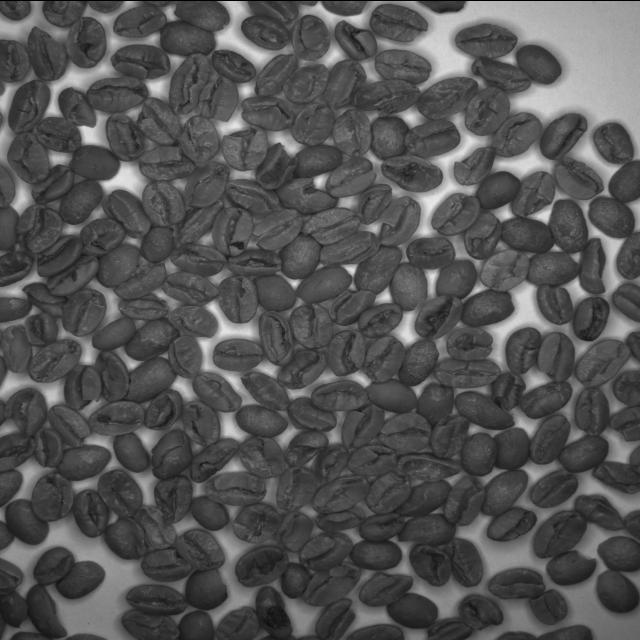bad: (530, 506, 588, 559), (574, 337, 633, 387), (416, 76, 481, 120), (349, 76, 422, 115), (24, 338, 84, 383), (302, 562, 362, 606), (451, 390, 517, 430), (463, 84, 512, 136), (232, 544, 292, 586), (308, 472, 371, 512), (85, 74, 151, 112), (380, 154, 446, 192), (317, 228, 381, 267), (412, 292, 464, 340), (441, 534, 487, 588), (252, 584, 296, 640), (551, 155, 607, 199), (370, 1, 430, 42), (102, 188, 151, 238), (491, 110, 542, 158), (432, 354, 504, 388), (5, 130, 51, 183), (109, 42, 173, 80), (454, 20, 518, 58), (468, 54, 532, 92), (23, 583, 68, 637), (301, 206, 363, 245), (16, 203, 64, 253), (220, 124, 270, 172), (402, 117, 462, 157), (538, 111, 588, 159), (148, 428, 194, 480), (478, 247, 530, 293), (60, 284, 105, 337), (27, 24, 69, 80), (42, 253, 98, 295), (462, 208, 507, 260), (174, 528, 227, 572), (7, 78, 50, 132), (254, 308, 294, 366), (298, 531, 356, 571), (177, 197, 225, 245), (101, 514, 149, 562), (139, 177, 186, 226), (101, 110, 147, 160), (255, 140, 301, 190), (96, 466, 142, 516), (378, 195, 424, 245), (432, 190, 482, 236), (324, 154, 376, 198), (339, 403, 387, 450), (395, 448, 461, 482), (204, 471, 268, 506), (352, 571, 414, 607), (237, 436, 290, 478), (535, 329, 577, 382), (483, 566, 548, 600), (34, 232, 82, 278), (192, 437, 240, 483), (516, 380, 574, 418), (209, 205, 253, 255), (589, 120, 639, 164), (363, 470, 413, 514), (160, 270, 221, 306), (230, 501, 282, 543), (276, 347, 328, 389), (238, 95, 297, 132), (122, 583, 190, 615), (65, 15, 106, 68), (529, 411, 570, 464), (407, 540, 453, 587), (378, 412, 432, 452), (396, 512, 456, 548), (397, 477, 451, 517), (195, 72, 238, 122), (399, 337, 442, 387), (443, 476, 486, 526), (31, 469, 72, 521), (89, 398, 145, 436), (542, 548, 598, 586), (227, 176, 280, 216), (570, 491, 624, 530), (192, 370, 242, 412), (290, 12, 332, 62), (330, 106, 372, 156), (523, 250, 581, 286), (239, 370, 291, 410), (328, 58, 368, 110), (183, 162, 229, 207), (46, 402, 92, 447), (133, 504, 179, 549), (183, 566, 230, 610), (290, 301, 334, 348), (138, 96, 181, 144), (5, 387, 48, 435), (152, 474, 194, 523), (111, 2, 168, 38), (93, 348, 131, 402), (283, 394, 337, 432), (218, 272, 259, 322), (278, 179, 340, 212), (137, 146, 197, 180), (372, 50, 432, 84), (112, 262, 168, 298), (254, 208, 302, 250), (512, 169, 554, 217), (571, 386, 613, 434), (572, 234, 606, 293), (363, 332, 403, 382), (290, 101, 334, 146), (310, 379, 370, 412), (388, 263, 429, 311), (344, 442, 400, 477), (254, 52, 298, 96), (29, 160, 74, 203), (534, 281, 576, 327), (276, 466, 318, 512), (119, 609, 181, 640), (62, 363, 102, 411), (326, 328, 366, 376), (169, 243, 227, 276), (138, 548, 194, 582), (283, 430, 333, 468), (456, 592, 506, 630), (309, 441, 352, 485), (166, 303, 220, 338), (404, 235, 458, 270), (240, 14, 292, 50), (504, 326, 543, 374), (445, 324, 495, 361), (181, 399, 221, 445), (333, 19, 379, 59), (328, 286, 374, 326), (356, 300, 404, 338), (284, 62, 328, 103), (18, 282, 68, 318), (72, 487, 108, 537), (590, 458, 640, 494), (451, 145, 497, 184), (78, 217, 125, 255), (212, 337, 264, 371), (56, 86, 98, 128), (416, 382, 458, 424), (431, 414, 470, 459), (37, 114, 83, 152), (215, 605, 264, 640), (484, 508, 534, 542), (354, 181, 392, 225), (490, 368, 528, 412), (32, 546, 74, 584), (276, 508, 312, 552), (526, 588, 570, 624), (1, 323, 32, 374), (210, 48, 256, 82), (607, 155, 640, 202), (228, 247, 282, 275), (356, 510, 406, 540), (0, 35, 31, 82), (0, 429, 33, 473), (115, 294, 169, 320), (312, 506, 366, 532), (22, 309, 59, 346), (31, 426, 65, 466), (169, 336, 201, 378), (606, 404, 640, 442), (40, 0, 89, 26), (614, 232, 640, 280), (0, 249, 34, 285), (420, 617, 472, 640), (612, 369, 640, 407), (346, 623, 406, 640), (0, 556, 24, 596), (1, 0, 34, 21)
good: (168, 50, 210, 114), (124, 354, 176, 402), (354, 243, 402, 295), (292, 266, 356, 304), (478, 466, 526, 516), (548, 196, 590, 252), (458, 288, 516, 328), (124, 319, 178, 360), (514, 41, 562, 85), (588, 194, 636, 238), (383, 594, 441, 630), (556, 432, 608, 472), (56, 179, 102, 224), (58, 558, 109, 598), (56, 442, 111, 479), (528, 469, 580, 508), (96, 242, 140, 288), (368, 114, 412, 160), (498, 217, 554, 253), (570, 294, 612, 342), (180, 114, 220, 164), (5, 499, 49, 544), (312, 597, 358, 640), (593, 570, 640, 612), (158, 21, 216, 55), (348, 536, 406, 570), (277, 232, 319, 278), (434, 258, 481, 299), (172, 0, 234, 31), (365, 378, 419, 413), (460, 430, 500, 477), (69, 144, 121, 180), (290, 143, 342, 178), (254, 270, 297, 312), (492, 424, 530, 471), (144, 387, 184, 431), (476, 172, 522, 210), (235, 404, 289, 436), (111, 429, 151, 472), (594, 534, 640, 571), (187, 493, 230, 531), (90, 316, 135, 350), (136, 226, 174, 262), (610, 282, 640, 324), (0, 586, 30, 628), (279, 559, 311, 598), (246, 0, 300, 23), (176, 610, 216, 640), (0, 293, 33, 322), (0, 467, 23, 506)
